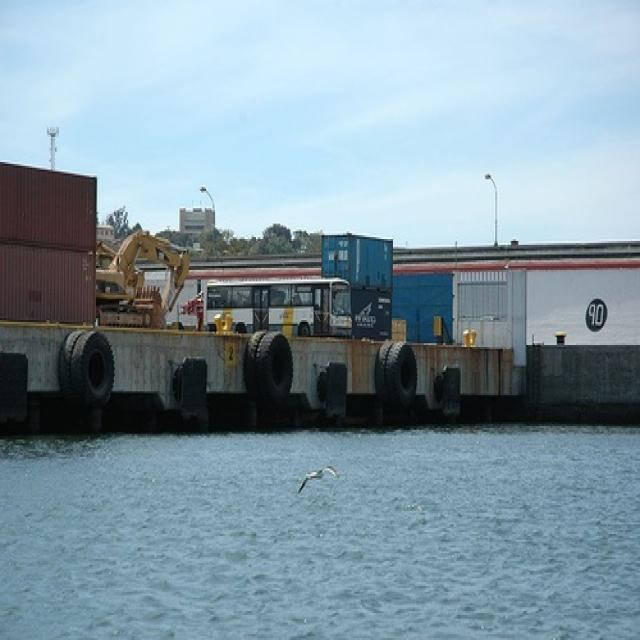bus: (200, 274, 350, 341)
